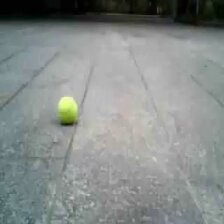tennis: (58, 95, 76, 121)
